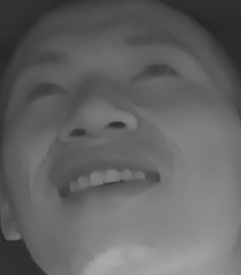eye: (127, 53, 184, 91), (18, 72, 67, 106)
mouth: (53, 152, 163, 218)
